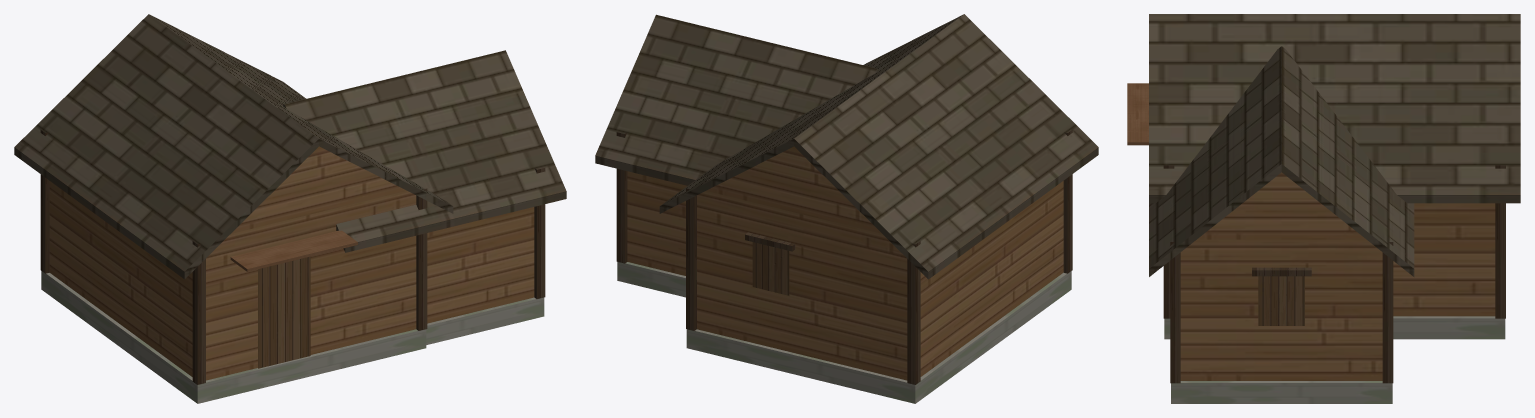
The model's file is ae_forest_wood_medium_l_lod1.glb.
The picture shows the model from 3 angles, left to right: view 1: azimuth 30°, elevation 25°; view 2: azimuth 150°, elevation 25°; view 3: azimuth 270°, elevation 25°; orthographic projection. The views are drawn at different scales.
Visible parts, largest first — view 1: ae_forest_wood_medium_l_lod1; view 2: ae_forest_wood_medium_l_lod1; view 3: ae_forest_wood_medium_l_lod1.
Boxes of the visible parts, box(x1,y1,x2,y2) form: ae_forest_wood_medium_l_lod1: box(14, 14, 566, 403); ae_forest_wood_medium_l_lod1: box(595, 14, 1098, 403); ae_forest_wood_medium_l_lod1: box(1127, 14, 1520, 403).
Size of the model in its own units: 7.25 by 4.4 by 5.93.
Materials: 1 (1 with a texture image).
